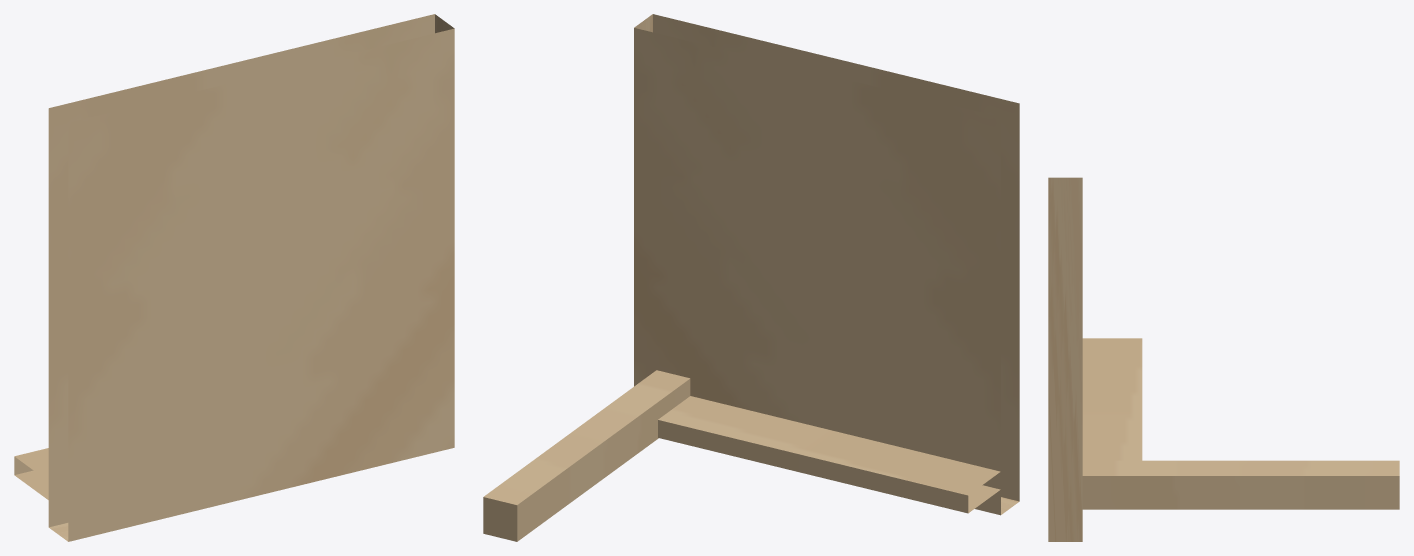
Rendered from pz_table_tables_high_02_large_light_1_0.obj.
The picture shows the model from 3 angles, left to right: view 1: azimuth 30°, elevation 25°; view 2: azimuth 150°, elevation 25°; view 3: azimuth 270°, elevation 25°; orthographic projection. The views are drawn at different scales.
Size of the model in its own units: 0.8438 by 0.875 by 0.7655.
1 material, 1 textured.
